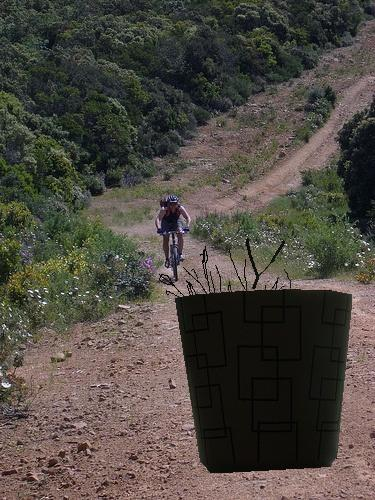tampered: (160, 239, 352, 473)
